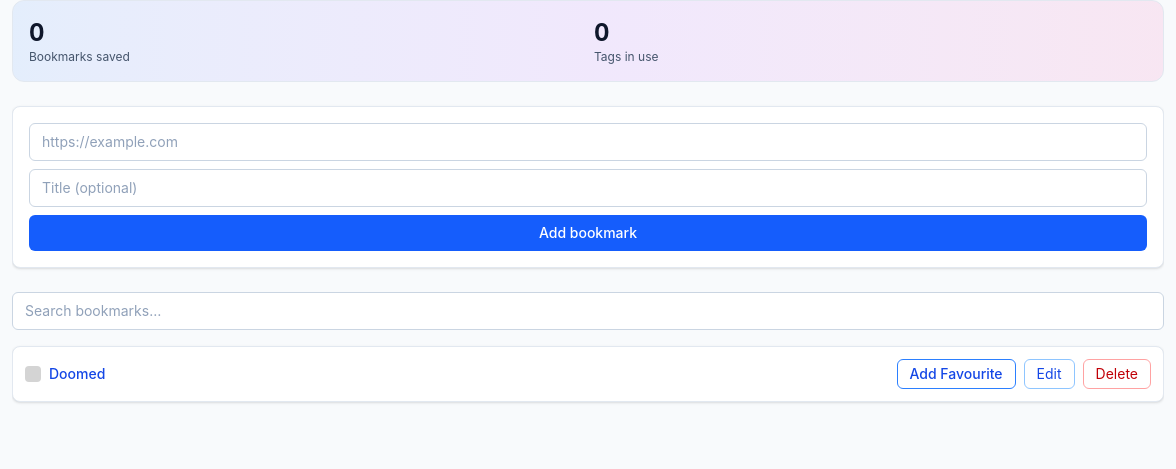
Test case: BookmarksList › removes a bookmark when its delete button is clicked
Expected: the link "Doomed" is shown, [49,364,105,384]
Click the button "Delete" at (1117, 374), box [1083,359,1151,389]
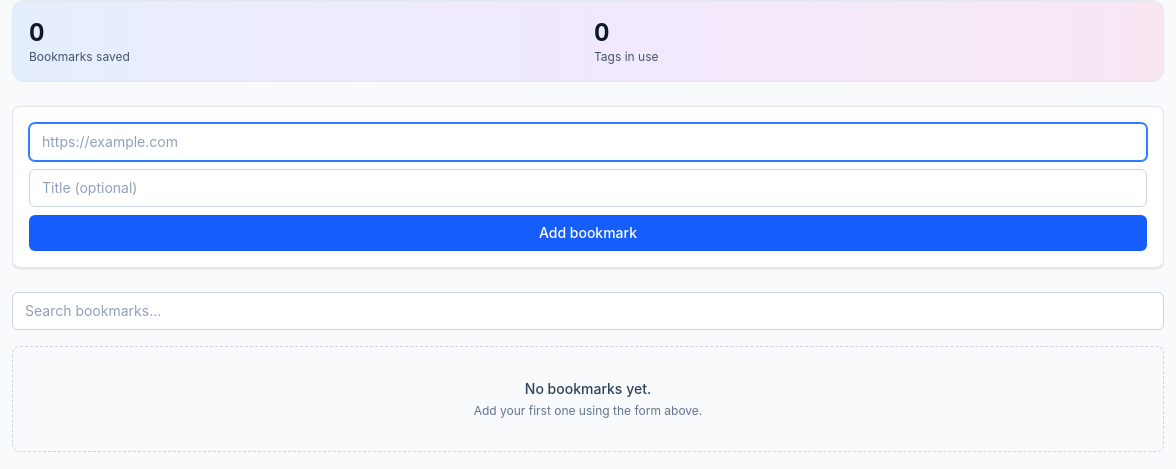
Expected: the link "Doomed" is gone
